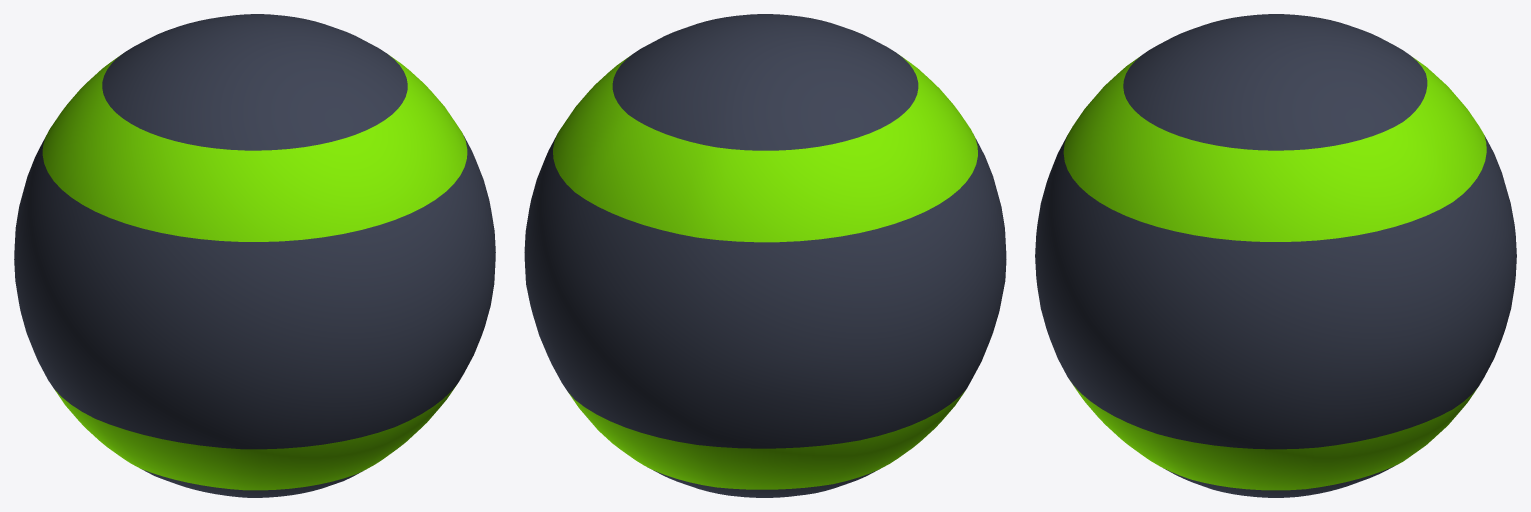
File: ball4.fbx
The picture shows the model from 3 angles, left to right: view 1: azimuth 30°, elevation 25°; view 2: azimuth 150°, elevation 25°; view 3: azimuth 270°, elevation 25°; orthographic projection.
Parts seen in each view (by area): view 1: ball4; view 2: ball4; view 3: ball4.
Part boxes in pixels (x1,y1,x2,y2): ball4: [14, 14, 495, 497]; ball4: [524, 14, 1006, 497]; ball4: [1035, 14, 1516, 497].
Bounding box in the file's own units: 0.6477 × 0.6545 × 0.6477.
